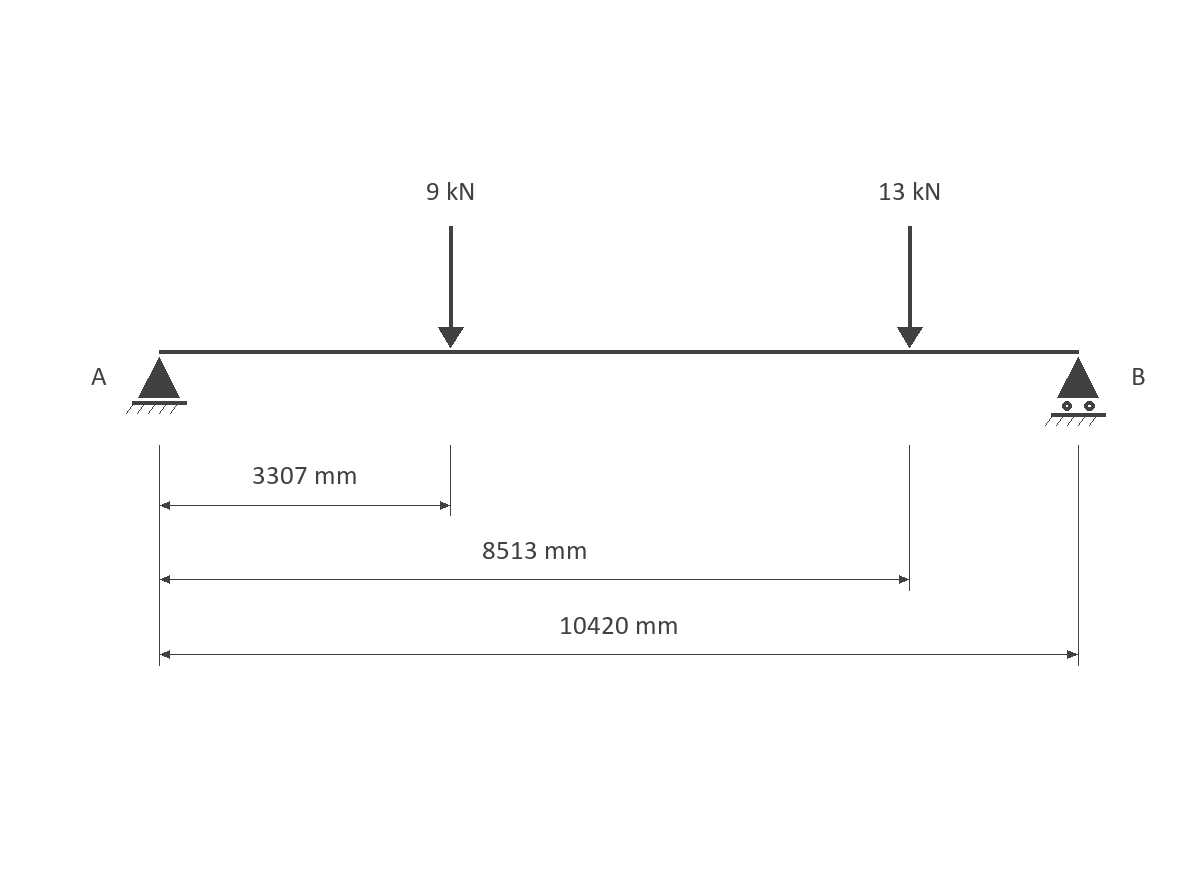pin_support: (126, 357, 187, 414)
point_load: (438, 226, 464, 348), (897, 226, 923, 348)
roller_support: (1045, 357, 1106, 426)
